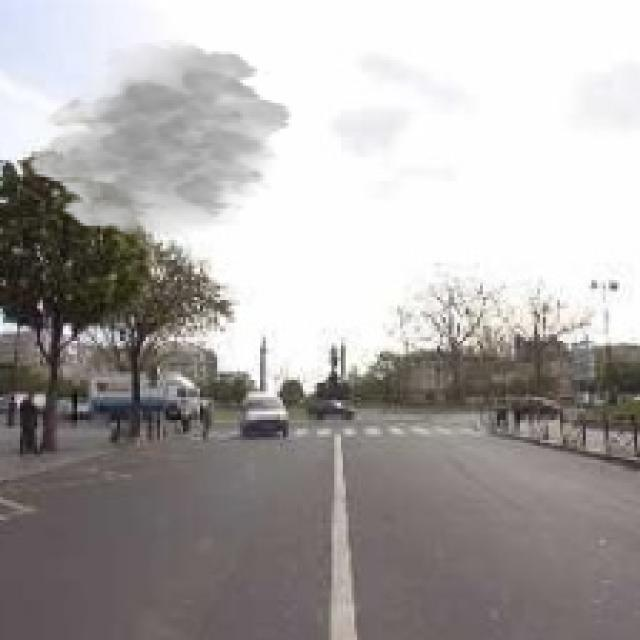smoke: (26, 40, 294, 240)
